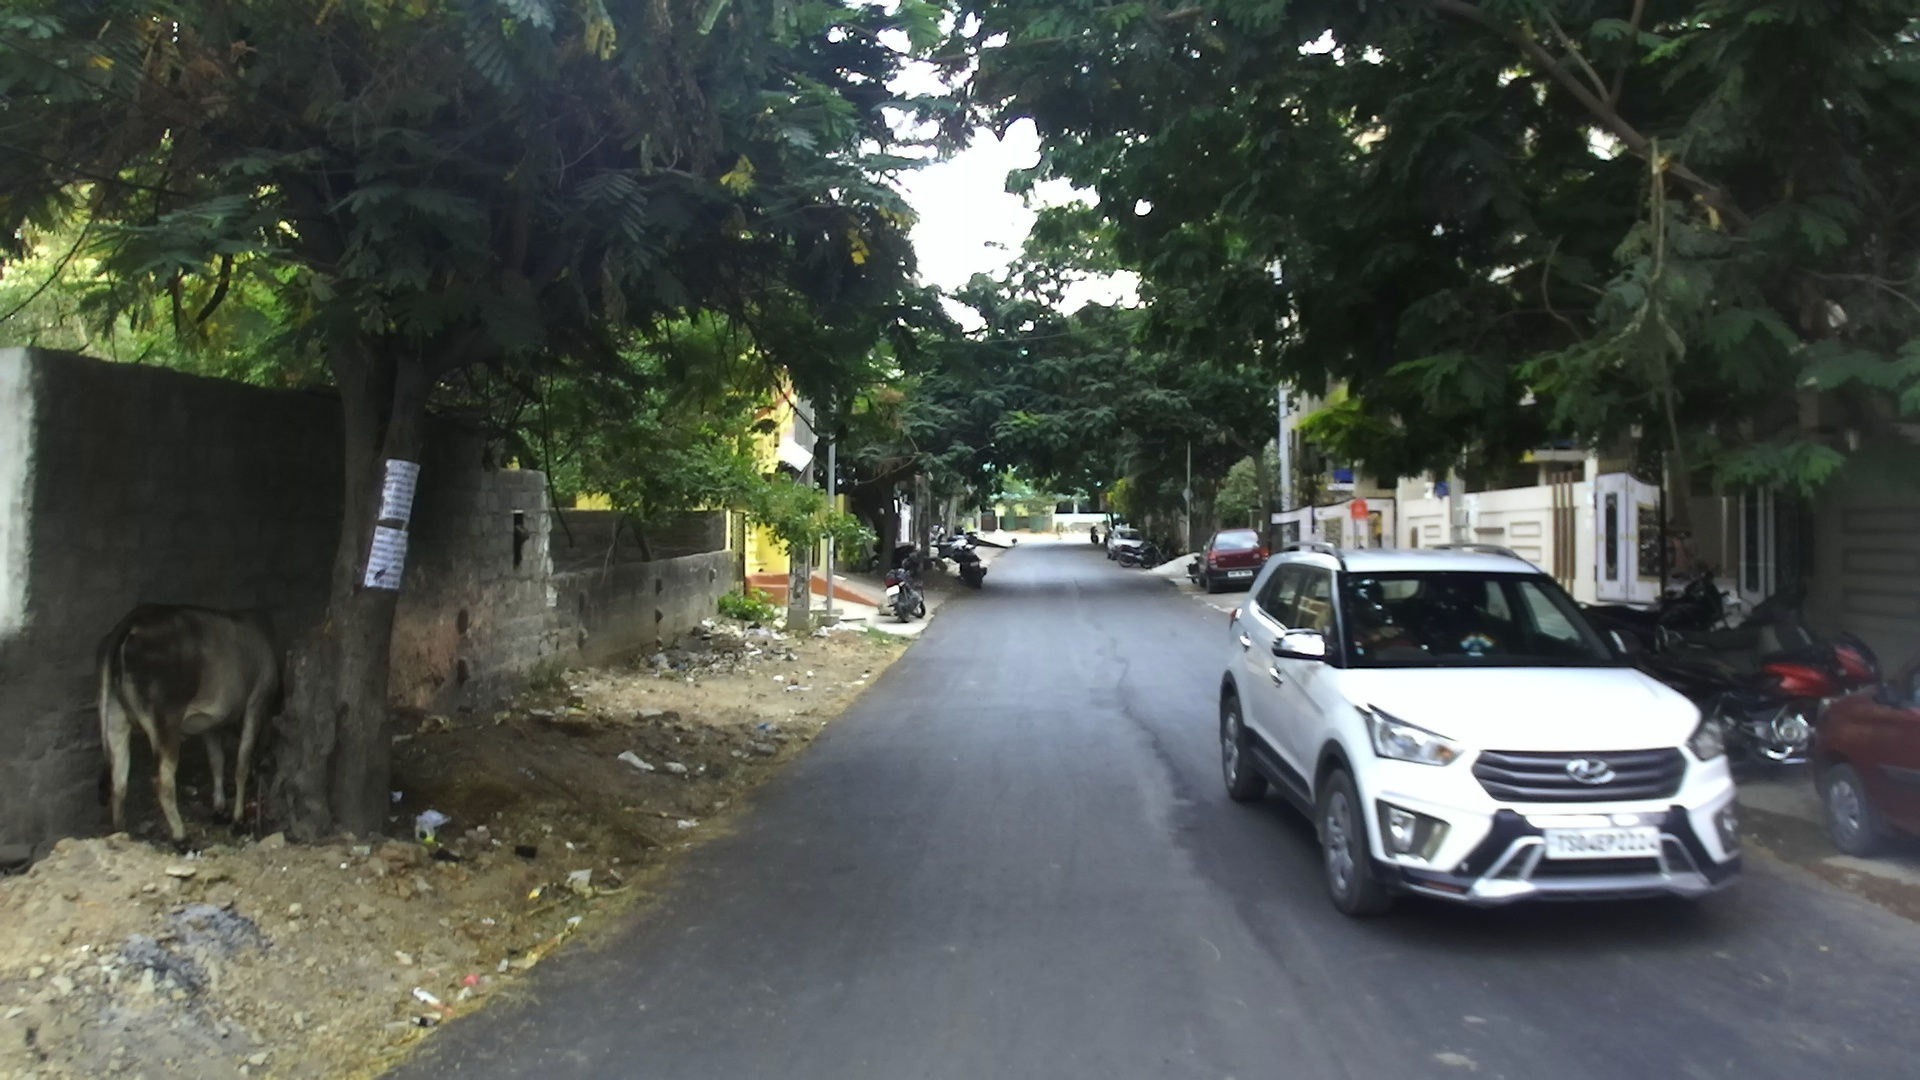vehicle: (1215, 545, 1746, 915), (1805, 647, 1919, 857), (1196, 527, 1265, 593), (1104, 527, 1151, 566)
